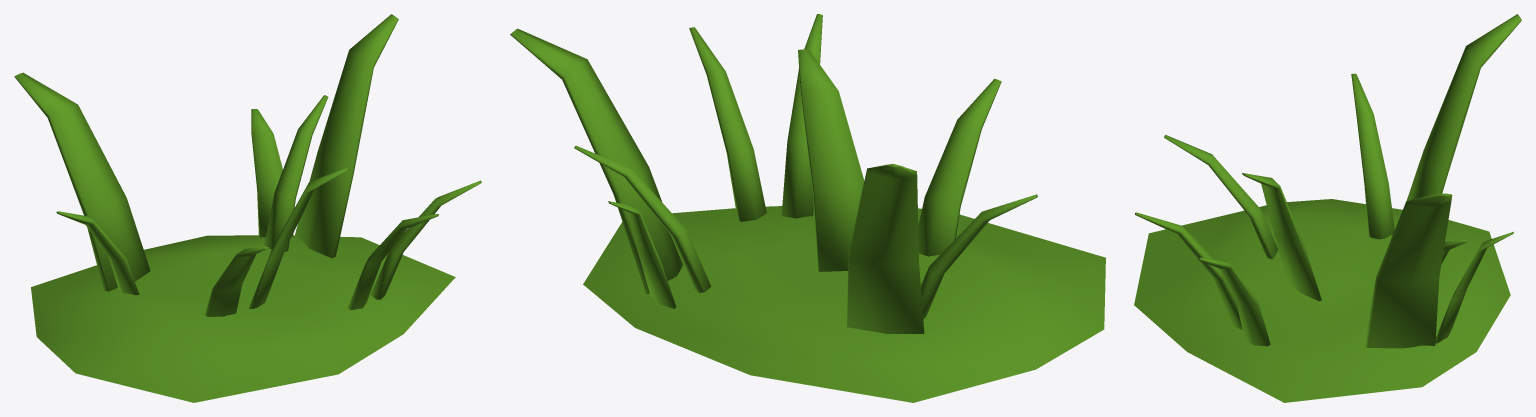
The model's file is Grass_01.fbx.
3 renders of one model, left to right at view 1: azimuth 30°, elevation 25°; view 2: azimuth 150°, elevation 25°; view 3: azimuth 270°, elevation 25°, orthographic. The views are drawn at different scales.
Visible parts, largest first — view 1: Cylinder.003; view 2: Cylinder.003; view 3: Cylinder.003.
Boxes of the visible parts, <box> form: Cylinder.003: <box>14,14,481,402</box>; Cylinder.003: <box>510,14,1105,402</box>; Cylinder.003: <box>1134,14,1521,402</box>.
Size of the model in its own units: 168 by 82.07 by 132.
